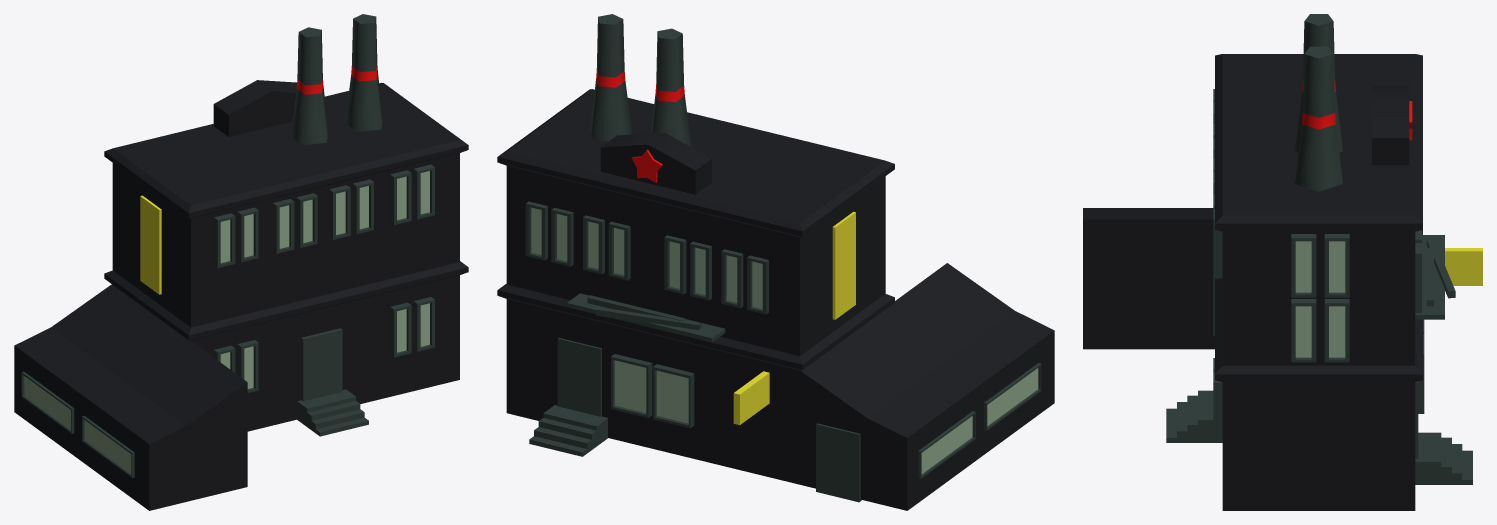
The model's file is Bakery.FBX.
3 renders of one model, left to right at view 1: azimuth 30°, elevation 25°; view 2: azimuth 150°, elevation 25°; view 3: azimuth 270°, elevation 25°, orthographic. The views are drawn at different scales.
Visible parts, largest first — view 1: Box037, Box051, Cylinder001, Box052, Box043, Box057, Box053, Object005, Box055; view 2: Box037, Box046, Cylinder001, Box039, Box043, Box057, Box056, Box040, Object004, Box055, Box054, Box047 (+2 smaller); view 3: Box037, Box038, Cylinder001, Box043, Object004, Object005, Box054, Box047, Box052, Box051, Box046, Box050 (+1 smaller).
Part boxes in pixels (x1,y1,x2,y2): Box037: (14, 82, 468, 510); Box051: (213, 164, 434, 267); Cylinder001: (290, 14, 383, 144); Box052: (213, 297, 434, 392); Box043: (213, 80, 296, 136); Box057: (21, 371, 134, 477); Box053: (301, 328, 342, 401); Object005: (297, 389, 368, 436); Box055: (140, 195, 161, 294); Box037: (497, 89, 1054, 510); Box046: (525, 201, 768, 314); Cylinder001: (590, 14, 691, 146); Box039: (611, 354, 694, 428); Box043: (600, 132, 711, 194); Box057: (918, 363, 1041, 479); Box056: (816, 423, 861, 502); Box040: (557, 338, 601, 416); Object004: (529, 405, 607, 456); Box055: (832, 211, 855, 319); Box054: (733, 371, 769, 425); Box047: (567, 293, 725, 342); Box037: (1083, 54, 1422, 510); Box038: (1291, 234, 1349, 362); Cylinder001: (1295, 14, 1342, 191); Box043: (1372, 85, 1409, 165); Object004: (1415, 432, 1472, 484); Object005: (1166, 390, 1222, 442); Box054: (1445, 248, 1482, 285); Box047: (1415, 235, 1444, 319); Box052: (1213, 278, 1222, 441); Box051: (1213, 89, 1222, 278); Box046: (1415, 230, 1421, 312); Box050: (1426, 239, 1455, 298).
Bounding box in the file's own units: 6.72 × 5.91 × 5.01.
